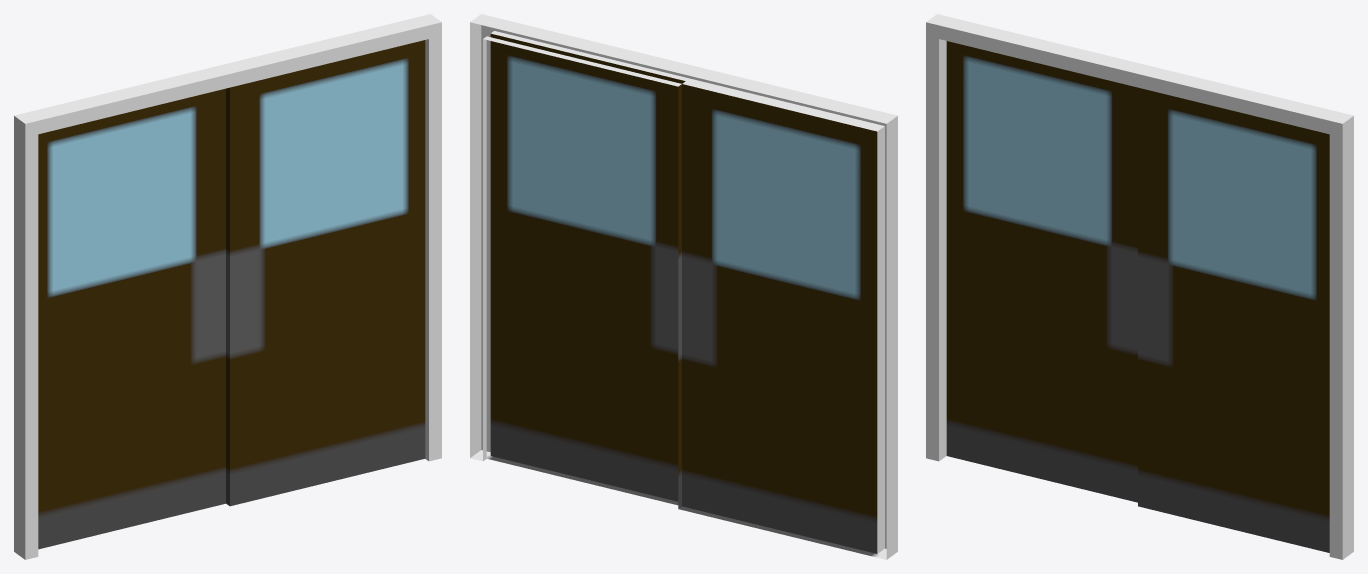
File: Door03.fbx
3 views of the same model, side by side, from view 1: azimuth 30°, elevation 25°; view 2: azimuth 150°, elevation 25°; view 3: azimuth 330°, elevation 25° (orthographic).
Parts seen in each view (by area): view 1: Matrix; view 2: Matrix; view 3: Matrix.
Part boxes in pixels (x1,y1,x2,y2): Matrix: (14,14,441,559); Matrix: (470,14,897,559); Matrix: (926,14,1353,559).
Bounding box in the file's own units: 64 × 64 × 3.
